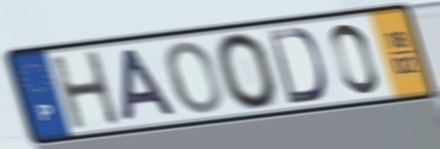0: (328, 22, 380, 97)
A: (120, 46, 180, 124)
D: (265, 25, 328, 106)
H: (47, 48, 123, 132)
O: (212, 30, 282, 113), (164, 39, 225, 117)
